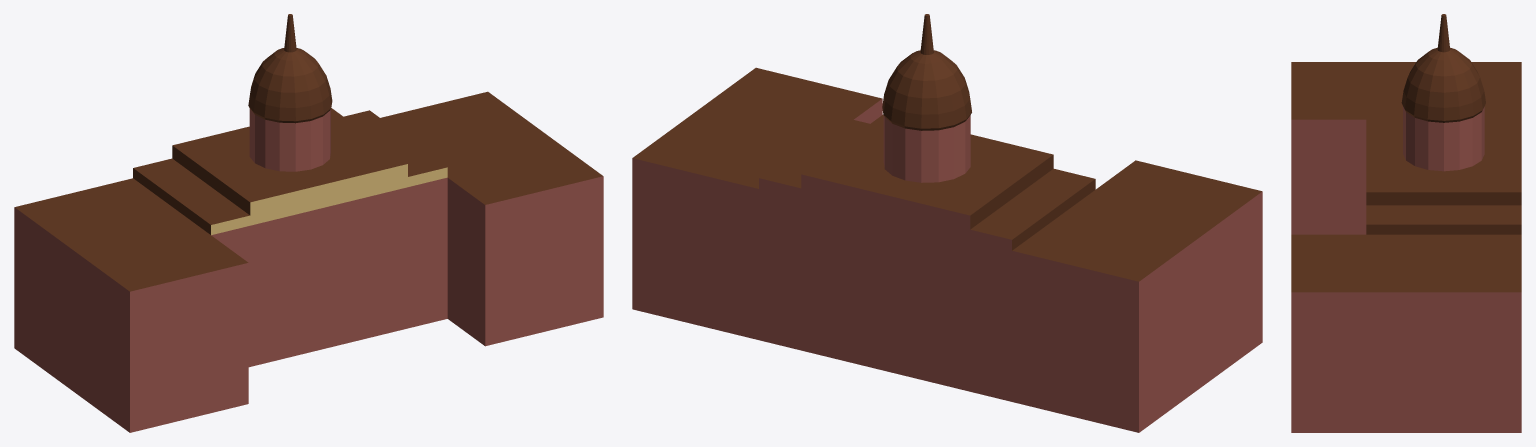
The model's file is CityHall.fbx.
The picture shows the model from 3 angles, left to right: view 1: azimuth 30°, elevation 25°; view 2: azimuth 150°, elevation 25°; view 3: azimuth 270°, elevation 25°; orthographic projection. The views are drawn at different scales.
Parts seen in each view (by area): view 1: Cube, Cylinder; view 2: Cube, Cylinder; view 3: Cube, Cylinder.
Boxes of the visible parts, left/top/right/bottom form: Cube: left=14, top=91, right=603, bottom=432; Cylinder: left=248, top=14, right=332, bottom=171; Cube: left=632, top=67, right=1262, bottom=432; Cylinder: left=882, top=14, right=971, bottom=182; Cube: left=1291, top=62, right=1521, bottom=432; Cylinder: left=1401, top=14, right=1485, bottom=171.
Bounding box in the file's own units: 2398 × 1472 × 1013.
